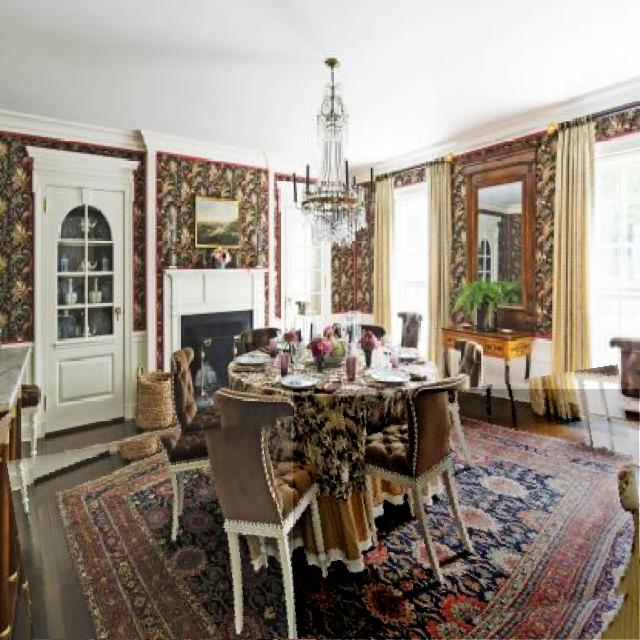floor: (293, 389, 640, 640), (30, 451, 289, 640)
